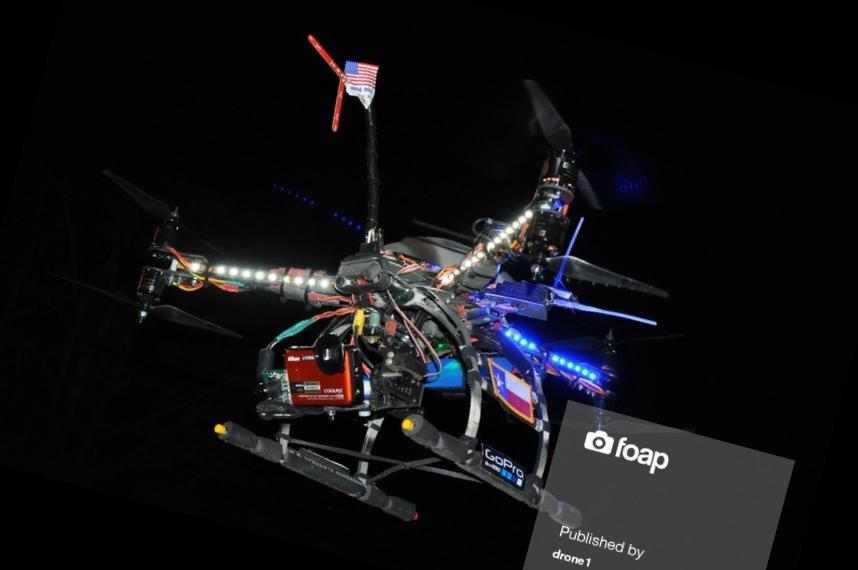drone: (48, 27, 760, 515)
